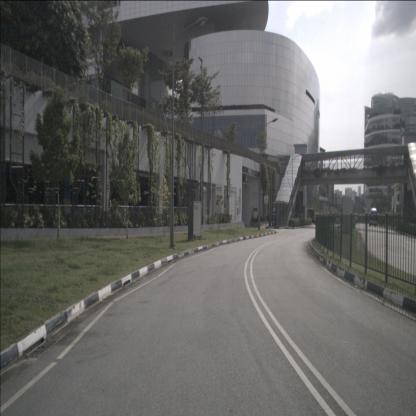vehicle-bus-rigid: (368, 208, 378, 226)
vehicle-car: (335, 218, 340, 225)
